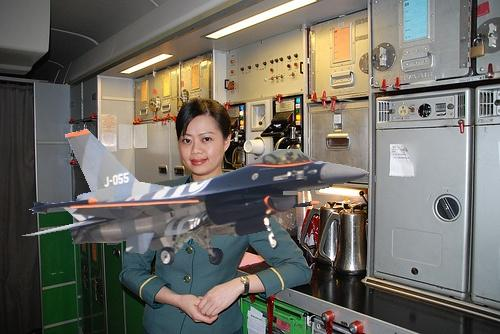tampered: (23, 130, 370, 265)
